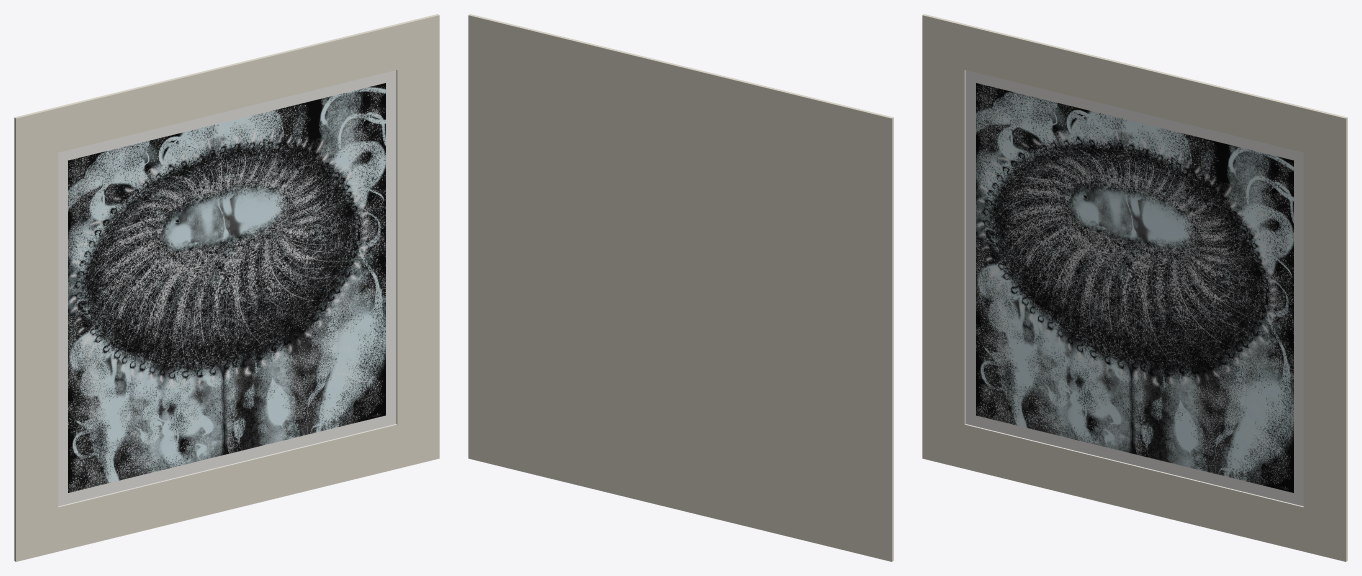
The model's file is va167_moyen_passe-partout.glb.
3 renders of one model, left to right at view 1: azimuth 30°, elevation 25°; view 2: azimuth 150°, elevation 25°; view 3: azimuth 330°, elevation 25°, orthographic.
Parts seen in each view (by area): view 1: va167_moyen_passe-partout; view 2: va167_moyen_passe-partout; view 3: va167_moyen_passe-partout.
Part boxes in pixels (x1,y1,x2,y2): va167_moyen_passe-partout: (14, 14, 439, 561); va167_moyen_passe-partout: (468, 14, 893, 561); va167_moyen_passe-partout: (922, 14, 1347, 561).
Bounding box in the file's own units: 0.8 × 0.8 × 0.0055.
4 materials, 1 textured.
